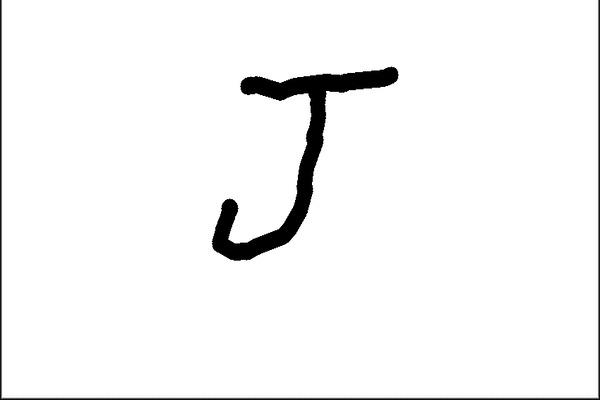J: (203, 62, 400, 261)
